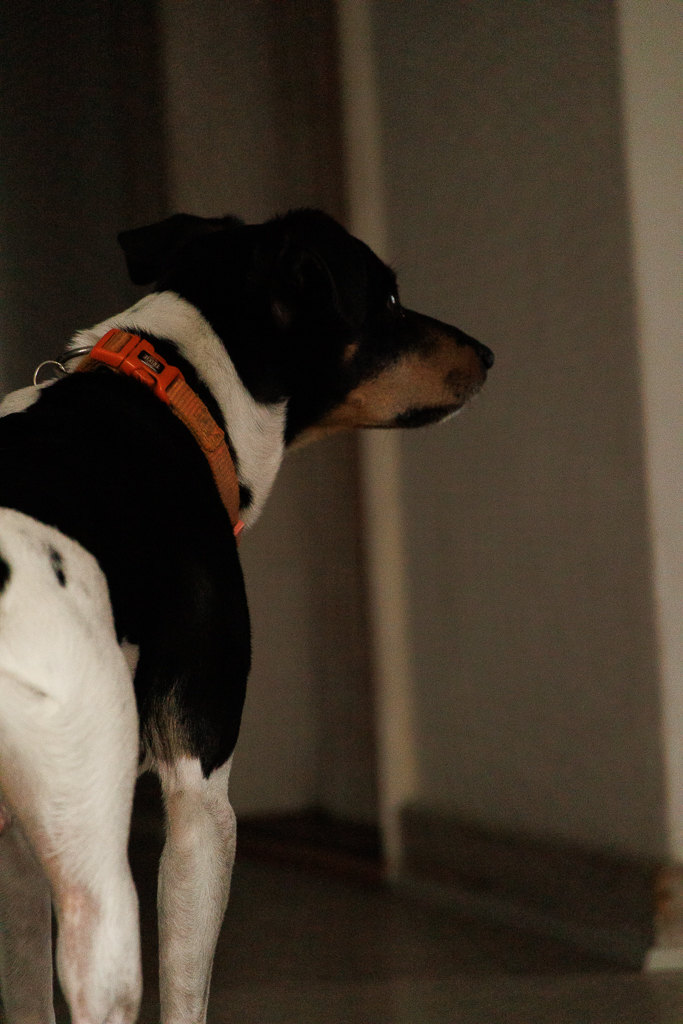Dog: (0, 187, 511, 1024)
